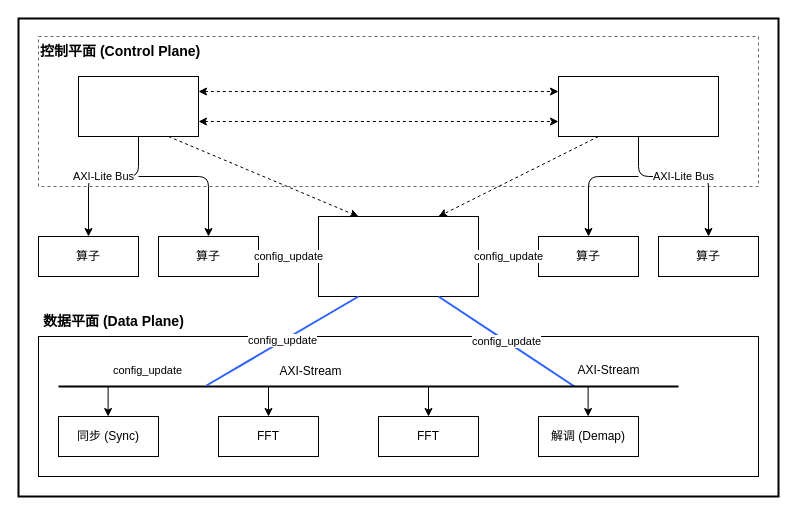
Image size: 796x514. Some labels were removed from this diagram. The shapes that lost their labels are listed below. From the top down, each one's centre as x and y in pixels, then its label:
the point at 138,106: CPU
the point at 638,106: AXI-Lite 总线
the point at 398,256: 模式控制模块 (Mode_Ctrl Module)
